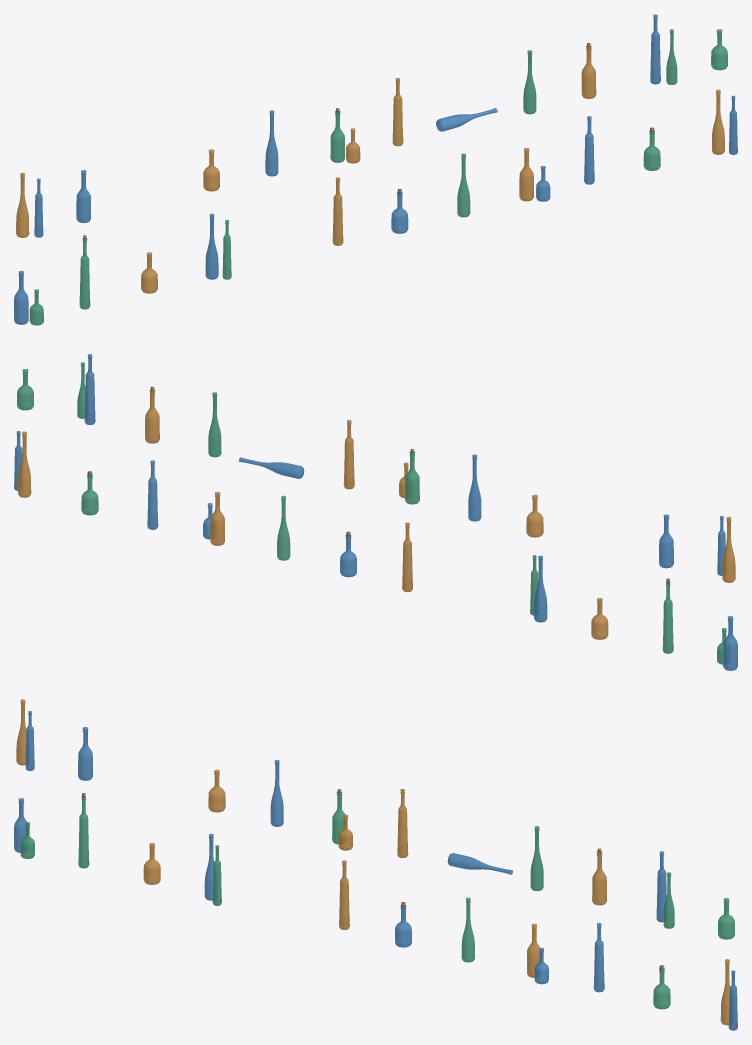
The model's file is bottle_wall.glb.
3 renders of one model, top to bottom at view 1: azimuth 30°, elevation 25°; view 2: azimuth 150°, elevation 25°; view 3: azimuth 330°, elevation 25°, orthographic.
Visible parts, largest first — view 1: bottleGlass_blue, bottleGlass_amber, bottleGlass_green; view 2: bottleGlass_blue, bottleGlass_amber, bottleGlass_green; view 3: bottleGlass_blue, bottleGlass_amber, bottleGlass_green.
Part boxes in pixels (bbox=[...]): bottleGlass_blue: bbox=[14, 14, 737, 324]; bottleGlass_amber: bbox=[16, 45, 724, 293]; bottleGlass_green: bbox=[29, 29, 727, 325]; bottleGlass_blue: bbox=[14, 354, 737, 670]; bottleGlass_amber: bbox=[18, 389, 735, 639]; bottleGlass_green: bbox=[17, 362, 726, 664]; bottleGlass_blue: bbox=[14, 711, 737, 1030]; bottleGlass_amber: bbox=[16, 699, 729, 1025]; bottleGlass_green: bbox=[20, 792, 734, 1009].
Bounding box in the file's own units: 5.23 × 1.07 × 0.1977.
